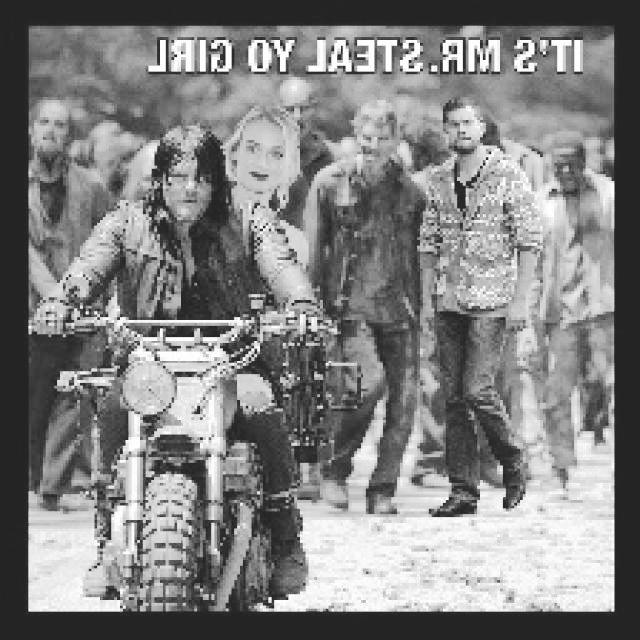Bike: (83, 314, 291, 626)
